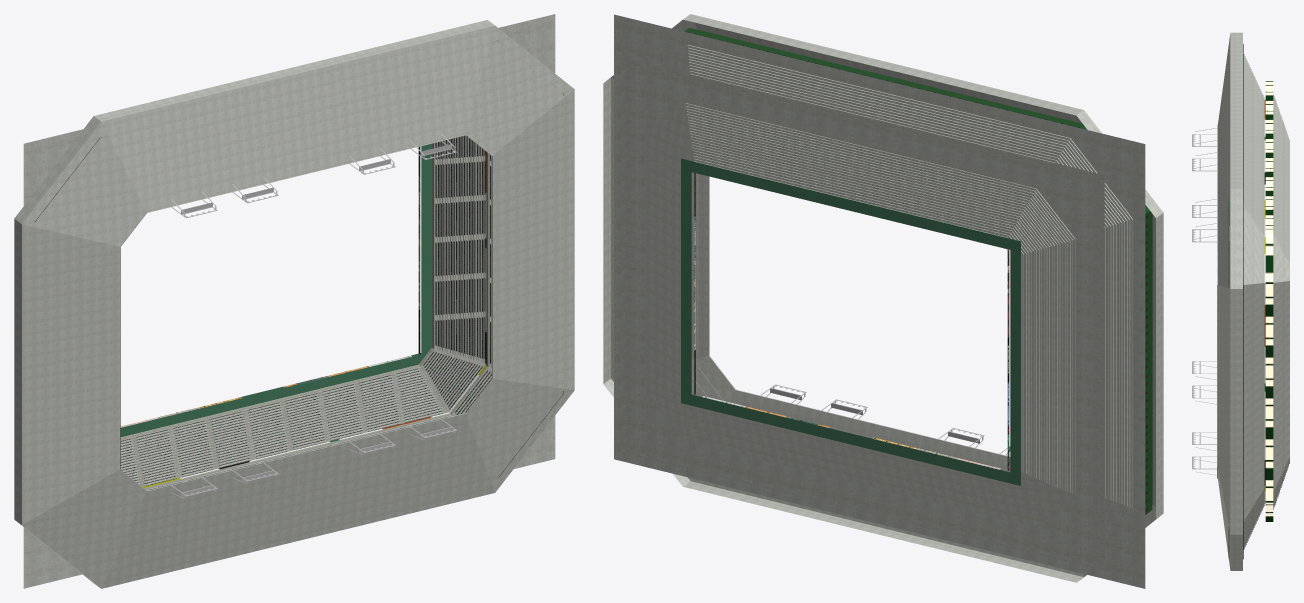
Rendered from gpf_stadium.glb.
The picture shows the model from 3 angles, left to right: view 1: azimuth 30°, elevation 25°; view 2: azimuth 150°, elevation 25°; view 3: azimuth 270°, elevation 25°; orthographic projection. The views are drawn at different scales.
Parts seen in each view (by area): view 1: mat01_concrete, mat30_seats, mat00_greenish_floor, mat29_hekje, mat28_metal, mat27_abstractads; view 2: mat01_concrete, mat00_greenish_floor, mat26_floor02wall, mat28_metal; view 3: mat01_concrete, mat02_floor01wall, mat28_metal, mat27_abstractads, mat26_floor02wall.
Part boxes in pixels (x1,y1,x2,y2): mat01_concrete: [14, 14, 574, 588]; mat30_seats: [120, 135, 491, 489]; mat00_greenish_floor: [120, 143, 431, 437]; mat29_hekje: [120, 143, 488, 489]; mat28_metal: [171, 133, 456, 498]; mat27_abstractads: [142, 151, 486, 487]; mat01_concrete: [603, 14, 1163, 588]; mat00_greenish_floor: [681, 158, 1020, 485]; mat26_floor02wall: [684, 28, 1152, 514]; mat28_metal: [692, 41, 1152, 471]; mat01_concrete: [1217, 32, 1289, 570]; mat02_floor01wall: [1265, 81, 1273, 521]; mat28_metal: [1192, 128, 1229, 552]; mat27_abstractads: [1264, 99, 1265, 503]; mat26_floor02wall: [1228, 44, 1243, 559].
Bounding box in the file's own units: 208 × 168 × 39.
Materials: 31 (31 with a texture image).
